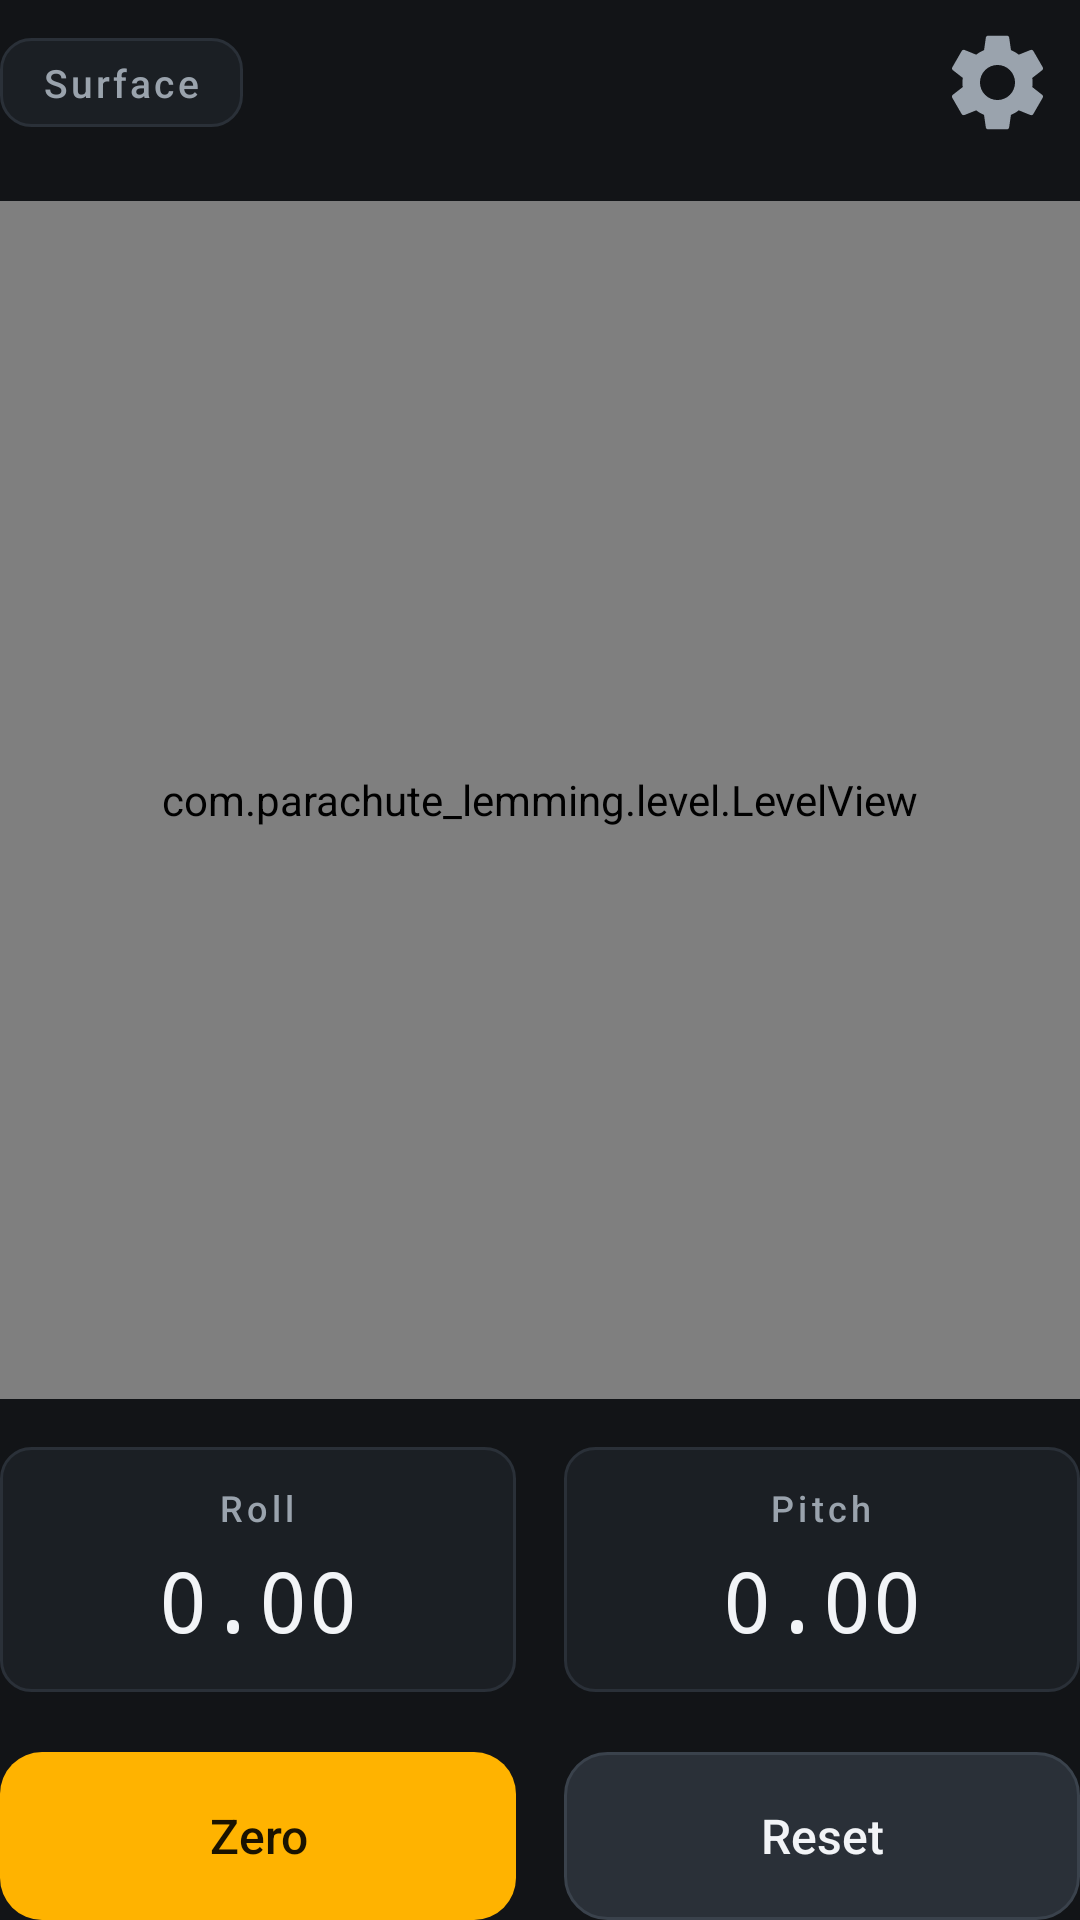

Icon click points for this 1080px x 1920px phone screenshot, format point (x, y):
Settings: point (997, 82)
